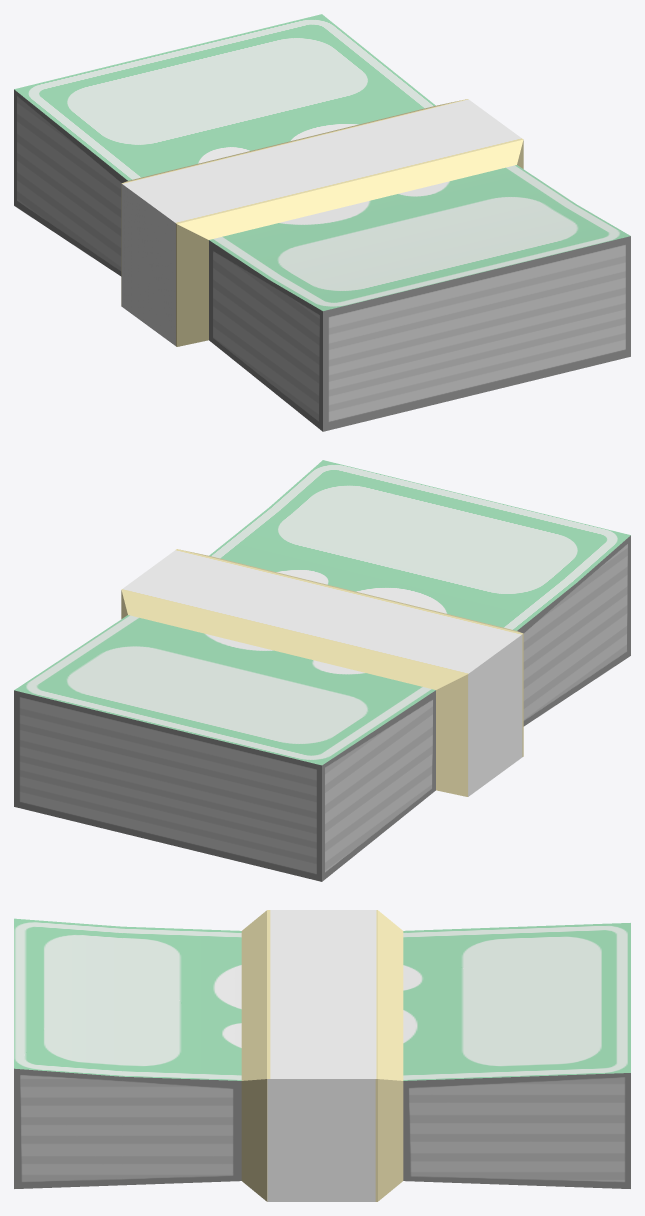
File: prop_Cash02.fbx
3 renders of one model, top to bottom at view 1: azimuth 30°, elevation 25°; view 2: azimuth 150°, elevation 25°; view 3: azimuth 270°, elevation 25°, orthographic.
Visible parts, largest first — view 1: cashstack; view 2: cashstack; view 3: cashstack.
Part boxes in pixels (box(x1,y1,x2,y2)): cashstack: box(14, 14, 630, 431); cashstack: box(14, 460, 630, 881); cashstack: box(14, 910, 630, 1201).
Size of the model in its own units: 22.16 by 7.57 by 34.22.
1 material, 1 textured.
